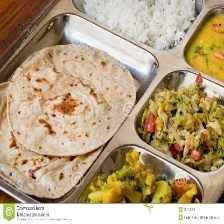rice: (81, 0, 200, 50)
